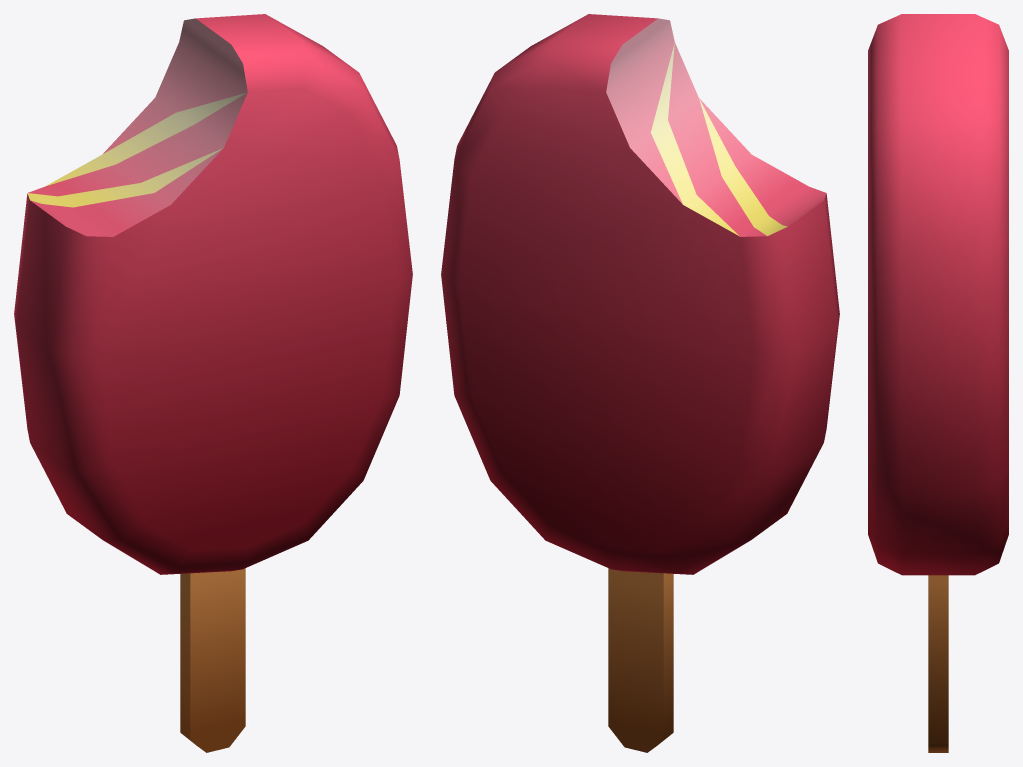
Rendered from m_BigPopsicle07.fbx.
3 views of the same model, side by side, from view 1: azimuth 30°, elevation 25°; view 2: azimuth 150°, elevation 25°; view 3: azimuth 270°, elevation 25° (orthographic). The views are drawn at different scales.
Visible parts, largest first — view 1: m_BigPopsicle07; view 2: m_BigPopsicle07; view 3: m_BigPopsicle07.
Boxes of the visible parts, x1,y1,x2,y2 form: m_BigPopsicle07: [14, 14, 412, 752]; m_BigPopsicle07: [441, 14, 839, 752]; m_BigPopsicle07: [868, 14, 1008, 752].
Size of the model in its own units: 12.05 by 22.96 by 4.
